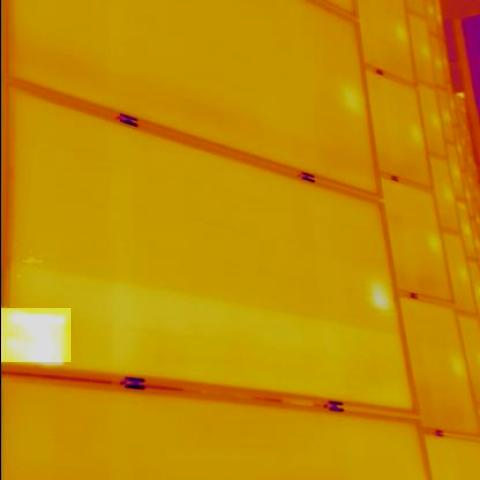fault: (1, 308, 71, 362), (374, 284, 398, 314)
